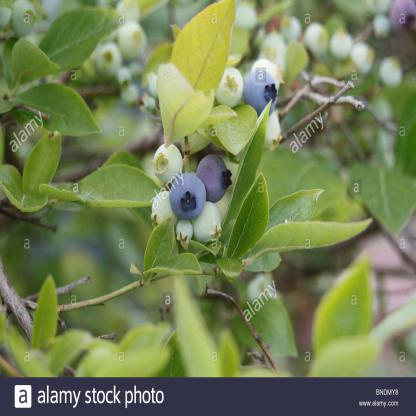blueberry leaf: (238, 177, 388, 285), (212, 96, 287, 289), (154, 2, 248, 151), (30, 9, 142, 74), (7, 70, 98, 145), (59, 163, 172, 215), (24, 120, 83, 195), (151, 249, 224, 299), (139, 211, 187, 275), (33, 264, 64, 344)
